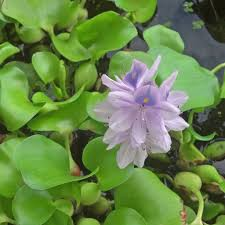water_hyacinth: (0, 1, 224, 224)
